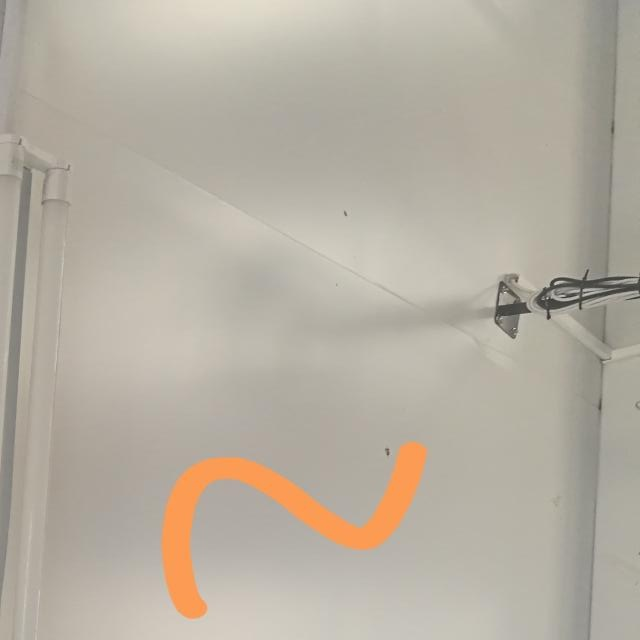fluorescent tube: (0, 119, 112, 640)
